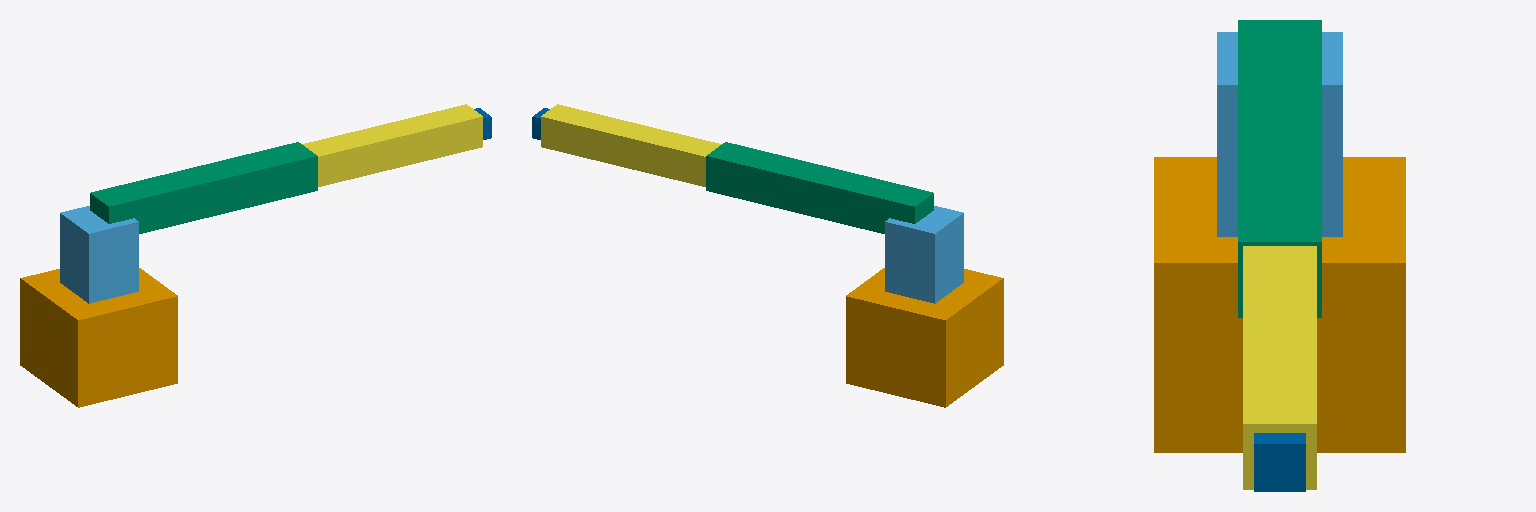
URDF robot description (practice_demo_arm):
<?xml version='1.0' encoding='utf-8'?>
<robot name="practice_demo_arm">
  <link name="base_link">
    <inertial>
      <origin xyz="0 0 .05" />
      <mass value="2" />
      <inertia ixx="0.004066666666666667" iyy="0.004066666666666667" izz="0.0048" ixy="0" ixz="0" iyz="0" />
    </inertial>
    <visual>
      <origin xyz="0 0 .05" />
      <geometry>
        <box size="0.12 0.12 0.1" />
      </geometry>
    </visual>
    <collision>
      <origin xyz="0 0 .05" />
      <geometry>
        <box size="0.12 0.12 0.1" />
      </geometry>
    </collision>
  </link>
  <link name="shoulder">
    <inertial>
      <origin xyz="0 0 .04" />
      <mass value="0.5" />
      <inertia ixx="0.0004166666666666667" iyy="0.0004166666666666667" izz="0.0003" ixy="0" ixz="0" iyz="0" />
    </inertial>
    <visual>
      <origin xyz="0 0 .04" />
      <geometry>
        <box size="0.06 0.06 0.08" />
      </geometry>
    </visual>
    <collision>
      <origin xyz="0 0 .04" />
      <geometry>
        <box size="0.06 0.06 0.08" />
      </geometry>
    </collision>
  </link>
  <link name="upper_arm">
    <inertial>
      <origin xyz=".125 0 0" />
      <mass value="0.6" />
      <inertia ixx="0.00016" iyy="0.003205" izz="0.003205" ixy="0" ixz="0" iyz="0" />
    </inertial>
    <visual>
      <origin xyz=".125 0 0" />
      <geometry>
        <box size="0.25 0.04 0.04" />
      </geometry>
    </visual>
    <collision>
      <origin xyz=".125 0 0" />
      <geometry>
        <box size="0.25 0.04 0.04" />
      </geometry>
    </collision>
  </link>
  <link name="forearm">
    <inertial>
      <origin xyz=".10 0 0" />
      <mass value="0.4" />
      <inertia ixx="8.166666666666668e-05" iyy="0.0013741666666666668" izz="0.0013741666666666668" ixy="0" ixz="0" iyz="0" />
    </inertial>
    <visual>
      <origin xyz=".10 0 0" />
      <geometry>
        <box size="0.2 0.035 0.035" />
      </geometry>
    </visual>
    <collision>
      <origin xyz=".10 0 0" />
      <geometry>
        <box size="0.2 0.035 0.035" />
      </geometry>
    </collision>
  </link>
  <link name="tool0">
    <inertial>
      <origin xyz="0 0 0" />
      <mass value="0.05" />
      <inertia ixx="5.208333333333335e-06" iyy="5.208333333333335e-06" izz="5.208333333333335e-06" ixy="0" ixz="0" iyz="0" />
    </inertial>
    <visual>
      <origin xyz="0 0 0" />
      <geometry>
        <box size="0.025 0.025 0.025" />
      </geometry>
    </visual>
    <collision>
      <origin xyz="0 0 0" />
      <geometry>
        <box size="0.025 0.025 0.025" />
      </geometry>
    </collision>
  </link>
  <joint name="joint1" type="revolute">
    <parent link="base_link" />
    <child link="shoulder" />
    <origin xyz="0 0 .10" />
    <axis xyz="0 0 1" />
    <limit lower="-2.5" upper="2.5" effort="15" velocity="1" />
  </joint>
  <joint name="joint2" type="revolute">
    <parent link="shoulder" />
    <child link="upper_arm" />
    <origin xyz="0 0 .08" />
    <axis xyz="0 1 0" />
    <limit lower="-1.5" upper="1.5" effort="15" velocity="1" />
  </joint>
  <joint name="joint3" type="revolute">
    <parent link="upper_arm" />
    <child link="forearm" />
    <origin xyz=".25 0 0" />
    <axis xyz="0 1 0" />
    <limit lower="-2" upper="2" effort="8" velocity="1" />
  </joint>
  <joint name="tool_fixed" type="fixed">
    <parent link="forearm" />
    <child link="tool0" />
    <origin xyz=".20 0 0" />
  </joint>
</robot>

--- Facts derived from the render (not from the file) ---
Views: 3 orthographic renders of the robot side by side, from view 1: azimuth 30°, elevation 25°; view 2: azimuth 150°, elevation 25°; view 3: azimuth 270°, elevation 25°.
Robot: practice_demo_arm — 5 links, 4 joints (3 revolute, 1 fixed); root link base_link; default pose: every joint at zero.
Links seen in each view (by area): view 1: base_link, upper_arm, forearm, shoulder; view 2: base_link, upper_arm, forearm, shoulder; view 3: base_link, upper_arm, forearm, shoulder, tool0.
Link boxes in pixels (<box>): base_link: <box>20,268,177,407</box>; upper_arm: <box>90,142,317,233</box>; forearm: <box>302,104,482,186</box>; shoulder: <box>60,206,138,303</box>; base_link: <box>846,268,1003,407</box>; upper_arm: <box>706,142,933,233</box>; forearm: <box>541,104,721,186</box>; shoulder: <box>885,206,963,303</box>; base_link: <box>1154,157,1405,452</box>; upper_arm: <box>1238,20,1321,317</box>; forearm: <box>1243,246,1316,489</box>; shoulder: <box>1217,32,1342,236</box>; tool0: <box>1254,433,1305,491</box>.
Bounding box of the posed robot: 0.5225 × 0.12 × 0.2 m (x, y, z).
Geometry: primitives only (box / cylinder / sphere), no mesh files.
